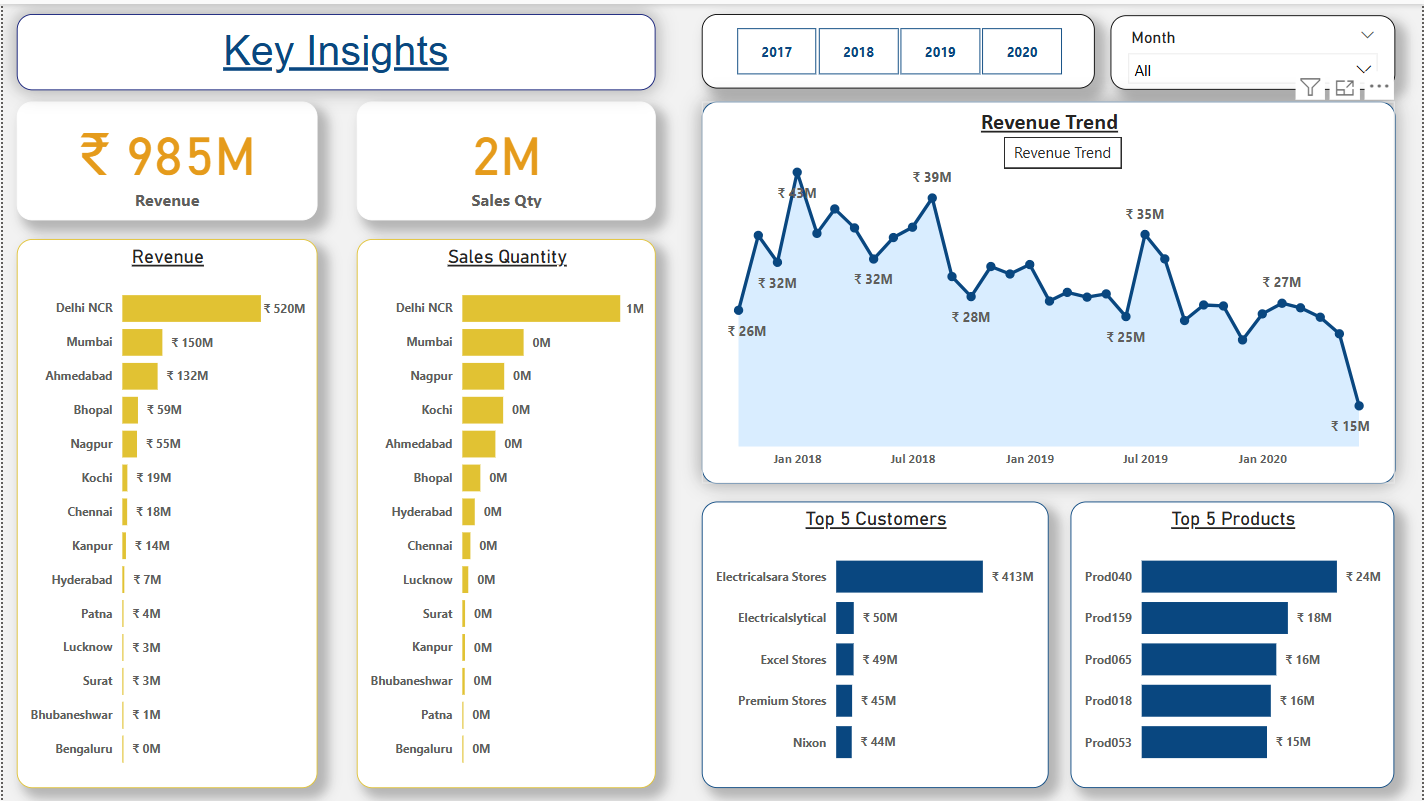

What the dashboard file says about the page in this screenshot:
{"tool":"powerbi","page":{"name":"Key Insights","canvas":[1280,720],"ordinal":0},"visuals":[{"type":"card","fields":{"Values":["Base Measures.Revenue"]},"box":[12.8,88.4,270.9,107],"z":0},{"type":"card","fields":{"Values":["Base Measures.Sales Qty"]},"box":[318.6,88.4,269.8,107],"z":1000},{"type":"barChart","title":"Revenue ","fields":{"Y":["Base Measures.Revenue"],"Category":["markets.markets_name"]},"box":[12.8,211.6,270.9,495.4],"z":2000},{"type":"barChart","title":"Sales Quantity","fields":{"Category":["markets.markets_name"],"Y":["Base Measures.Sales Qty"]},"box":[318.6,211.6,269.8,495.4],"z":3000},{"type":"slicer","fields":{"Values":["date.date.Variation.Date Hierarchy.Year"]},"box":[630.2,9.3,354.7,67.4],"z":4000},{"type":"slicer","fields":{"Values":["date.date.Variation.Date Hierarchy.Month"]},"box":[999,9.6,256.6,67.2],"z":5000},{"type":"barChart","title":"Top 5 Customers","fields":{"Y":["Base Measures.Revenue"],"Category":["customers.custmer_name"]},"box":[630.2,448.8,312.8,258.1],"z":6000},{"type":"barChart","title":"Top 5 Products","fields":{"Y":["Base Measures.Revenue"],"Category":["products.product_code"]},"box":[962.8,448.8,291.9,258.1],"z":7000},{"type":"lineChart","title":"Revenue Trend","fields":{"Category":["date.cy_date"],"Y":["Base Measures.Revenue"]},"box":[630.1,87.9,625.6,344.9],"z":8000},{"type":"textbox","box":[12.4,9,576,68.8],"z":9000}]}

Visuals, with their boxes in screenshot pixels (x1, y1, x2, y2), scaled from the page's 1280x720 canvas onto the 1424x801 screenshot:
card - Base Measures.Revenue: x1=14 y1=98 x2=316 y2=217
card - Base Measures.Sales Qty: x1=354 y1=98 x2=655 y2=217
"Revenue " barChart: x1=14 y1=235 x2=316 y2=787
"Sales Quantity" barChart: x1=354 y1=235 x2=655 y2=787
slicer - date.date.Variation.Date Hierarchy.Year: x1=701 y1=10 x2=1096 y2=85
slicer - date.date.Variation.Date Hierarchy.Month: x1=1111 y1=11 x2=1397 y2=85
"Top 5 Customers" barChart: x1=701 y1=499 x2=1049 y2=786
"Top 5 Products" barChart: x1=1071 y1=499 x2=1396 y2=786
"Revenue Trend" lineChart: x1=701 y1=98 x2=1397 y2=481
textbox: x1=14 y1=10 x2=655 y2=87
